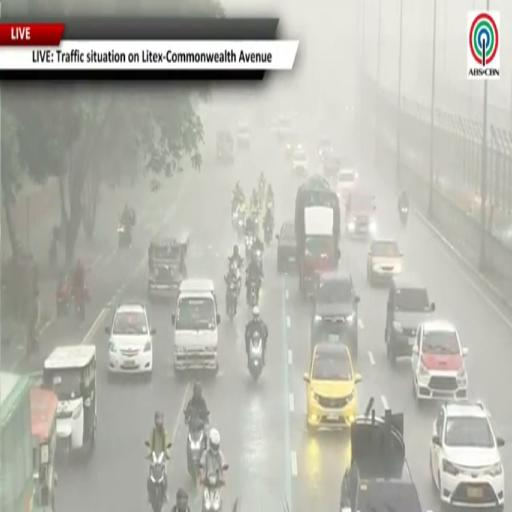bus: (0, 373, 33, 511)
car: (430, 403, 504, 510), (304, 343, 361, 430), (171, 279, 220, 374), (412, 320, 467, 402), (385, 275, 435, 365), (311, 269, 359, 359), (105, 302, 155, 375), (367, 239, 402, 285), (345, 188, 376, 237), (276, 221, 296, 273), (336, 158, 357, 201), (322, 153, 341, 183), (217, 131, 233, 164), (291, 146, 307, 177), (285, 132, 300, 160), (277, 115, 291, 141), (318, 137, 333, 161), (237, 122, 250, 148)
jeepney: (43, 345, 97, 454), (30, 386, 58, 511), (149, 238, 188, 299)
motorcycle: (185, 411, 208, 485), (149, 452, 166, 511), (202, 472, 224, 511), (248, 331, 263, 380), (74, 284, 88, 322), (56, 283, 71, 316), (227, 279, 238, 318), (230, 261, 241, 295), (118, 222, 131, 248), (48, 238, 58, 268), (248, 279, 258, 308), (234, 212, 245, 236), (253, 248, 263, 273), (245, 235, 254, 259), (264, 222, 272, 245), (399, 206, 408, 226), (259, 180, 266, 205), (267, 198, 273, 213)
truck: (340, 397, 421, 511), (295, 175, 340, 296)
